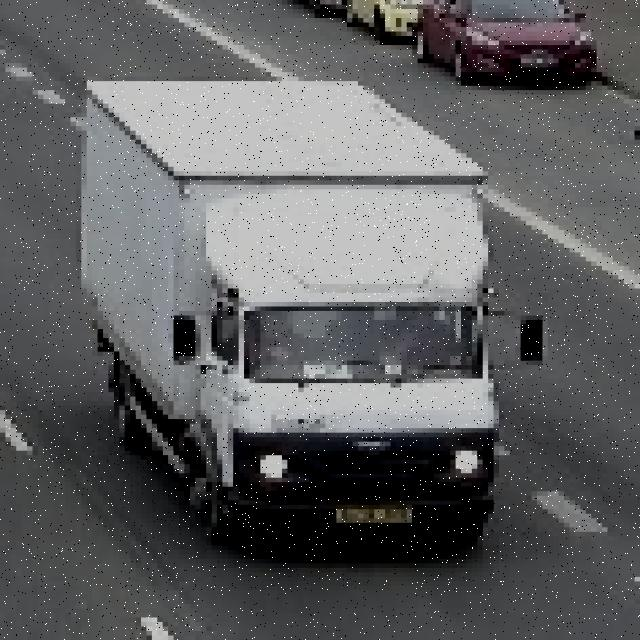truck: (70, 72, 542, 541)
